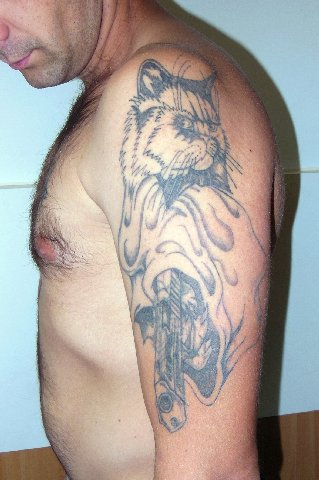tatu8_kot: (97, 58, 274, 429)
